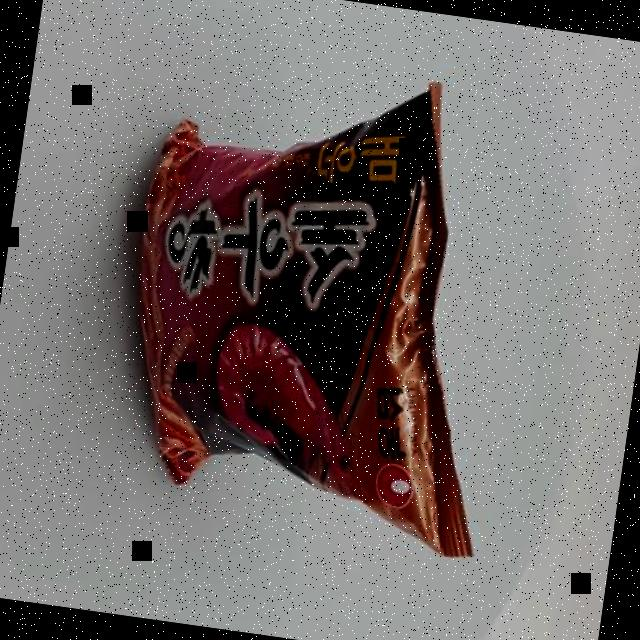snack_bag: (62, 26, 550, 566)
